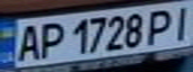1: (66, 16, 90, 55)
2: (106, 11, 130, 52)
7: (84, 14, 109, 53)
8: (124, 10, 151, 48)
A: (9, 21, 45, 62)
I: (166, 2, 193, 40)
P: (142, 6, 178, 45), (33, 19, 66, 61)
